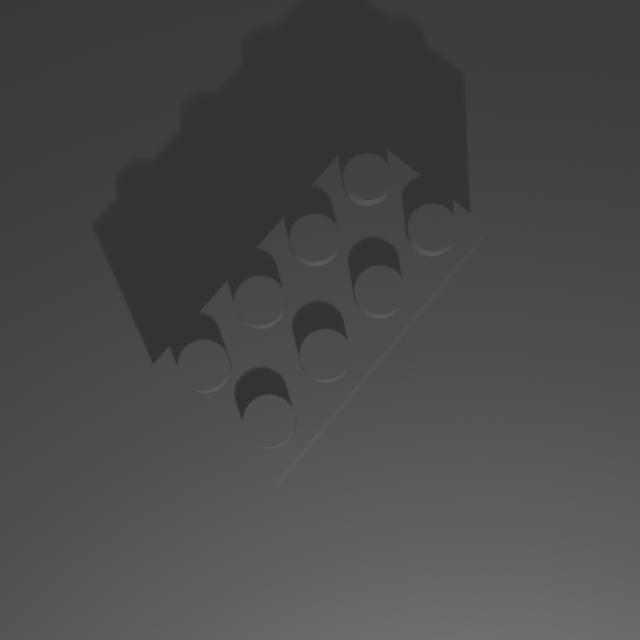lego_2x4: (142, 122, 492, 487)
